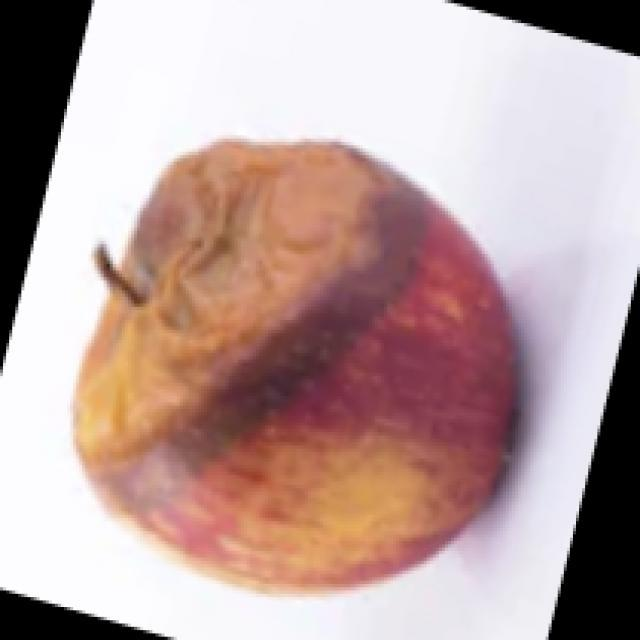Rotten: (70, 143, 532, 600)
